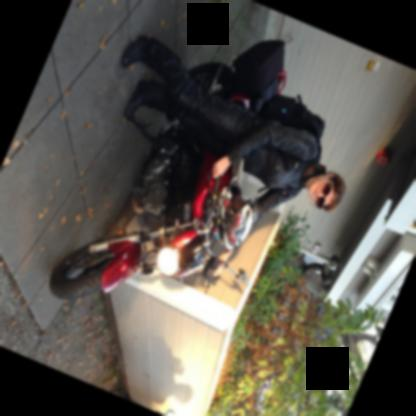backpack: (259, 93, 324, 169)
